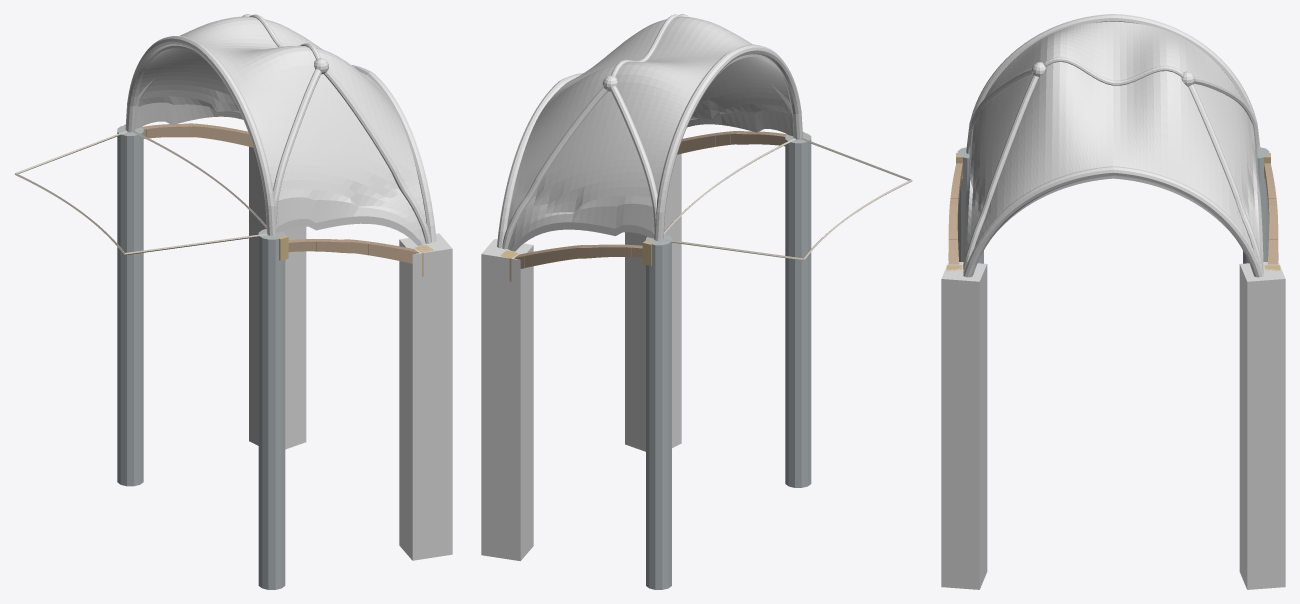
File: F5ZP_R07_CHEVET_90_PAIRED_FLYERS_1TO1_EXPERIMENTAL.glb
3 views of the same model, side by side, from view 1: azimuth 30°, elevation 25°; view 2: azimuth 150°, elevation 25°; view 3: azimuth 270°, elevation 25° (orthographic). The views are drawn at different scales.
Parts seen in each view (by area): view 1: R21_SOURCE_R21_WEB_90_B, R21_SOURCE_TRIAL_PAD_O_100, R21_SOURCE_PIER_CORE_R5285_A102p0_SNAPSHOT, R21_SOURCE_PIER_CORE_R5285_A78p0_SNAPSHOT, R21_SOURCE_R21_WEB_90_A, R21_SOURCE_TRIAL_PAD_O_80, R21_SOURCE_R21_INWARD_ARCH_90, R21_SOURCE_AMB_MIDDLE_A4_1to1_SPRING_POLYGON_SNAPSHOT, R21_SOURCE_R21_OGIVE_90_B_0, R21_SOURCE_R17_POINTED_O_90, R21_SOURCE_R21_OGIVE_90_B_1; view 2: R21_SOURCE_R21_WEB_90_A, R21_SOURCE_TRIAL_PAD_O_80, R21_SOURCE_R21_WEB_90_B, R21_SOURCE_PIER_CORE_R5285_A102p0_SNAPSHOT, R21_SOURCE_PIER_CORE_R5285_A78p0_SNAPSHOT, R21_SOURCE_TRIAL_PAD_O_100, R21_SOURCE_R21_INWARD_ARCH_90, R21_SOURCE_AMB_MIDDLE_A4_1to1_SPRING_POLYGON_SNAPSHOT, R21_SOURCE_R17_POINTED_O_90, R21_SOURCE_R21_OGIVE_90_A_0, R21_SOURCE_R21_OGIVE_90_A_1; view 3: R21_SOURCE_R21_WEB_90_A, R21_SOURCE_R21_WEB_90_B, R21_SOURCE_TRIAL_PAD_O_80, R21_SOURCE_TRIAL_PAD_O_100, R21_SOURCE_R17_POINTED_O_90, R21_SOURCE_R21_INWARD_ARCH_90, R21_SOURCE_R21_OGIVE_90_B_0, R21_SOURCE_R21_OGIVE_90_A_0, R21_SOURCE_PIER_CORE_R5285_A78p0_SNAPSHOT, R21_SOURCE_PIER_CORE_R5285_A102p0_SNAPSHOT, R21_SOURCE_R21_CROWN_RIDGE_90, R21_SOURCE_R21_OGIVE_90_B_1 (+1 smaller).
Part boxes in pixels (box(x1,y1,x2,y2)): R21_SOURCE_R21_WEB_90_B: box(201, 45, 426, 246); R21_SOURCE_TRIAL_PAD_O_100: box(399, 233, 452, 560); R21_SOURCE_PIER_CORE_R5285_A102p0_SNAPSHOT: box(258, 229, 285, 589); R21_SOURCE_PIER_CORE_R5285_A78p0_SNAPSHOT: box(117, 125, 143, 486); R21_SOURCE_R21_WEB_90_A: box(135, 16, 365, 128); R21_SOURCE_TRIAL_PAD_O_80: box(249, 146, 306, 449); R21_SOURCE_R21_INWARD_ARCH_90: box(125, 36, 276, 235); R21_SOURCE_AMB_MIDDLE_A4_1to1_SPRING_POLYGON_SNAPSHOT: box(14, 130, 267, 255); R21_SOURCE_R21_OGIVE_90_B_0: box(324, 69, 431, 243); R21_SOURCE_R17_POINTED_O_90: box(351, 65, 436, 242); R21_SOURCE_R21_OGIVE_90_B_1: box(273, 69, 321, 226); R21_SOURCE_R21_WEB_90_A: box(507, 56, 728, 251); R21_SOURCE_TRIAL_PAD_O_80: box(481, 239, 533, 561); R21_SOURCE_R21_WEB_90_B: box(567, 16, 793, 136); R21_SOURCE_PIER_CORE_R5285_A102p0_SNAPSHOT: box(785, 132, 811, 487); R21_SOURCE_PIER_CORE_R5285_A78p0_SNAPSHOT: box(646, 234, 671, 589); R21_SOURCE_TRIAL_PAD_O_100: box(625, 153, 681, 451); R21_SOURCE_R21_INWARD_ARCH_90: box(654, 44, 802, 241); R21_SOURCE_AMB_MIDDLE_A4_1to1_SPRING_POLYGON_SNAPSHOT: box(663, 138, 912, 260); R21_SOURCE_R17_POINTED_O_90: box(497, 73, 583, 248); R21_SOURCE_R21_OGIVE_90_A_0: box(502, 87, 607, 249); R21_SOURCE_R21_OGIVE_90_A_1: box(610, 86, 657, 231); R21_SOURCE_R21_WEB_90_A: box(1113, 21, 1263, 269); R21_SOURCE_R21_WEB_90_B: box(963, 21, 1113, 269); R21_SOURCE_TRIAL_PAD_O_80: box(1239, 261, 1285, 589); R21_SOURCE_TRIAL_PAD_O_100: box(941, 261, 987, 589); R21_SOURCE_R17_POINTED_O_90: box(963, 166, 1263, 277); R21_SOURCE_R21_INWARD_ARCH_90: box(966, 14, 1260, 154); R21_SOURCE_R21_OGIVE_90_B_0: box(963, 75, 1038, 273); R21_SOURCE_R21_OGIVE_90_A_0: box(1188, 84, 1263, 273); R21_SOURCE_PIER_CORE_R5285_A78p0_SNAPSHOT: box(1243, 147, 1269, 263); R21_SOURCE_PIER_CORE_R5285_A102p0_SNAPSHOT: box(957, 147, 983, 263); R21_SOURCE_R21_CROWN_RIDGE_90: box(1043, 56, 1183, 85); R21_SOURCE_R21_OGIVE_90_B_1: box(968, 68, 1032, 149).
Size of the model in its own units: 2737 by 4178 by 2652.
